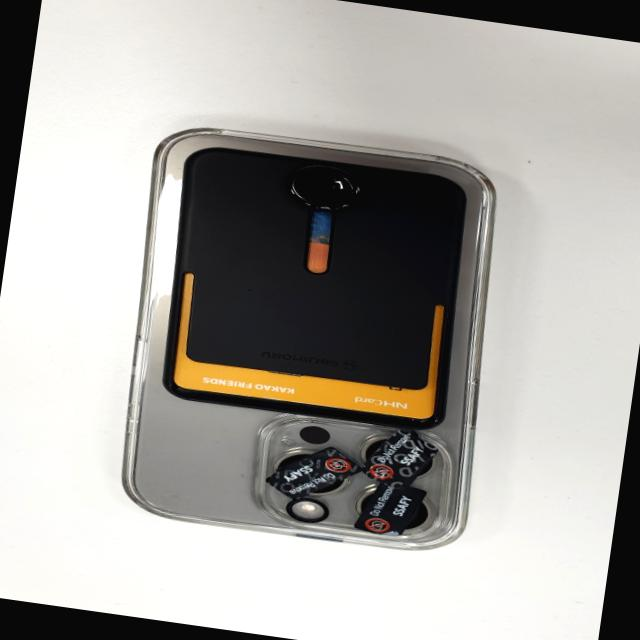phone: (105, 113, 519, 559)
removed_sticker: (262, 438, 363, 507), (360, 426, 440, 490)
sticker: (354, 480, 426, 539)
